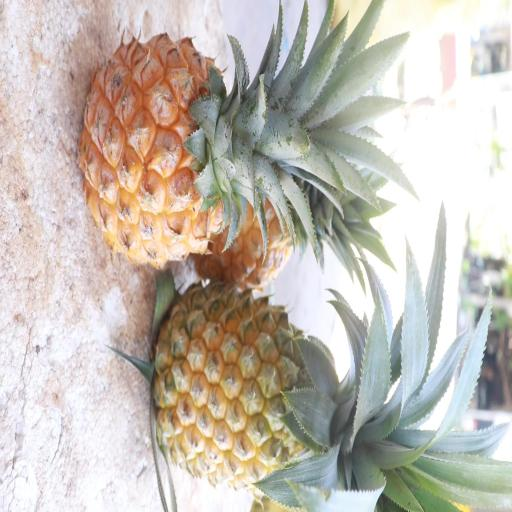Pineapple - v8 v1: (74, 29, 322, 272), (151, 283, 424, 498), (189, 124, 357, 296)
